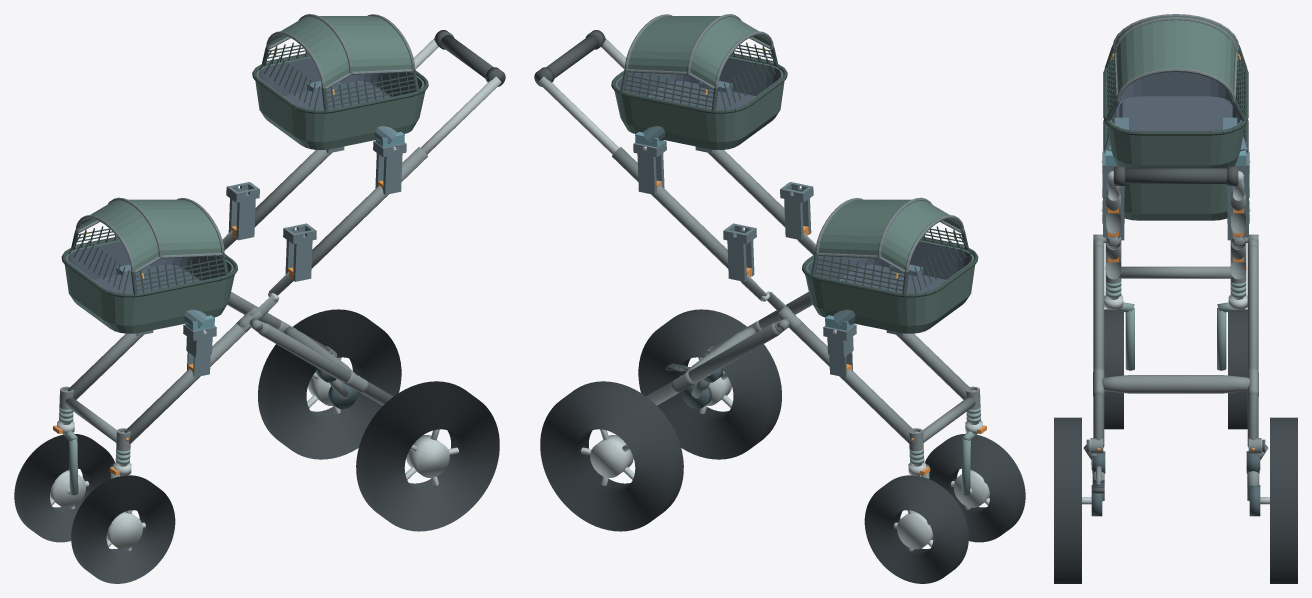
Rendered from D01_w380_state1_wheel_L.glb.
The picture shows the model from 3 angles, left to right: view 1: azimuth 30°, elevation 25°; view 2: azimuth 150°, elevation 25°; view 3: azimuth 270°, elevation 25°; orthographic projection. The views are drawn at different scales.
Visible parts, largest first — view 1: D01_Lower, D01_Upper, RL_tire.009, RR_tire.009, FL_tire.009, FR_tire.009, main_lower_-1, main_upper_-1, V46_rear_leg_-1.002, Universal_Cabin_Receiver_M_-1, Universal_Cabin_Receiver_M_1, main_upper_1 (+12 smaller); view 2: D01_Lower, D01_Upper, RR_tire.009, RL_tire.009, FR_tire.009, FL_tire.009, main_lower_1, main_upper_1, V46_rear_leg_1.002, Universal_Cabin_Receiver_M_1, Universal_Cabin_Receiver_M_-1, main_upper_-1 (+12 smaller); view 3: D01_Upper, RL_tire.009, RR_tire.009, D01_Lower, V46_rearbar.002, FL_tire.009, FR_tire.009, V46_rear_leg_1.002, V46_rear_leg_-1.002, round_handle.010, front_fixed_round_tube, D01_Upper_Mount_H (+9 smaller).
Boxes of the visible parts, x1,y1,x2,y2 form: D01_Lower: [61, 197, 237, 333]; D01_Upper: [252, 14, 428, 149]; RL_tire.009: [356, 381, 499, 531]; RR_tire.009: [258, 309, 401, 459]; FL_tire.009: [71, 475, 175, 583]; FR_tire.009: [14, 433, 114, 542]; main_lower_-1: [124, 323, 249, 443]; main_upper_-1: [311, 147, 427, 268]; V46_rear_leg_-1.002: [259, 323, 393, 405]; Universal_Cabin_Receiver_M_-1: [283, 223, 316, 281]; Universal_Cabin_Receiver_M_1: [226, 182, 259, 240]; main_upper_1: [254, 150, 331, 227]; D01_Lower: [802, 197, 978, 333]; D01_Upper: [611, 14, 787, 149]; RR_tire.009: [540, 381, 683, 531]; RL_tire.009: [638, 309, 781, 459]; FR_tire.009: [864, 475, 968, 583]; FL_tire.009: [925, 433, 1025, 542]; main_lower_1: [790, 323, 915, 443]; main_upper_1: [612, 147, 728, 268]; V46_rear_leg_1.002: [646, 323, 780, 405]; Universal_Cabin_Receiver_M_1: [723, 223, 756, 281]; Universal_Cabin_Receiver_M_-1: [780, 182, 813, 240]; main_upper_-1: [708, 150, 785, 227]; D01_Upper: [1103, 14, 1248, 168]; RL_tire.009: [1054, 417, 1081, 583]; RR_tire.009: [1270, 417, 1297, 583]; D01_Lower: [1103, 120, 1248, 220]; V46_rearbar.002: [1102, 375, 1249, 393]; FL_tire.009: [1104, 309, 1123, 429]; FR_tire.009: [1228, 309, 1247, 429]; V46_rear_leg_1.002: [1247, 245, 1258, 447]; V46_rear_leg_-1.002: [1093, 245, 1104, 447]; round_handle.010: [1113, 168, 1238, 183]; front_fixed_round_tube: [1119, 266, 1232, 278]; D01_Upper_Mount_H: [1101, 117, 1250, 164].
Size of the model in its own units: 1.18 by 1.27 by 0.5271.
